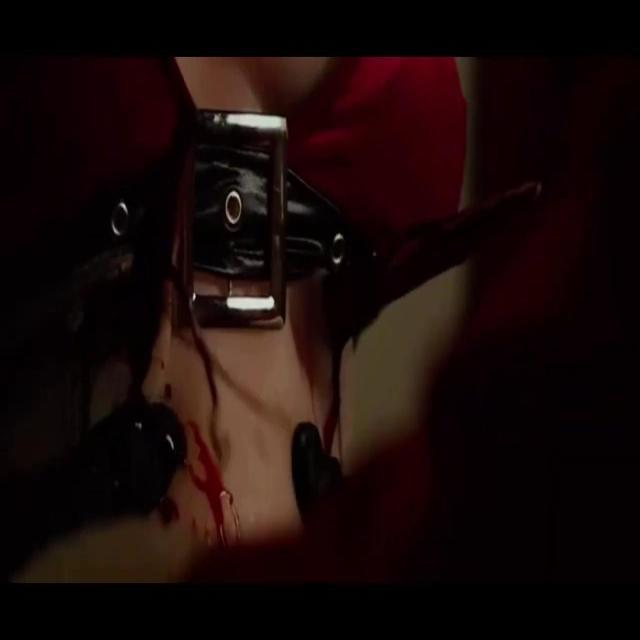flood: (124, 338, 286, 572)
